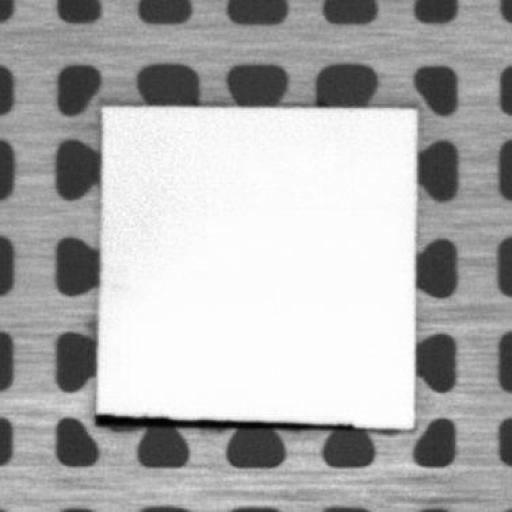DIE_BROKEN: (91, 409, 355, 431)
